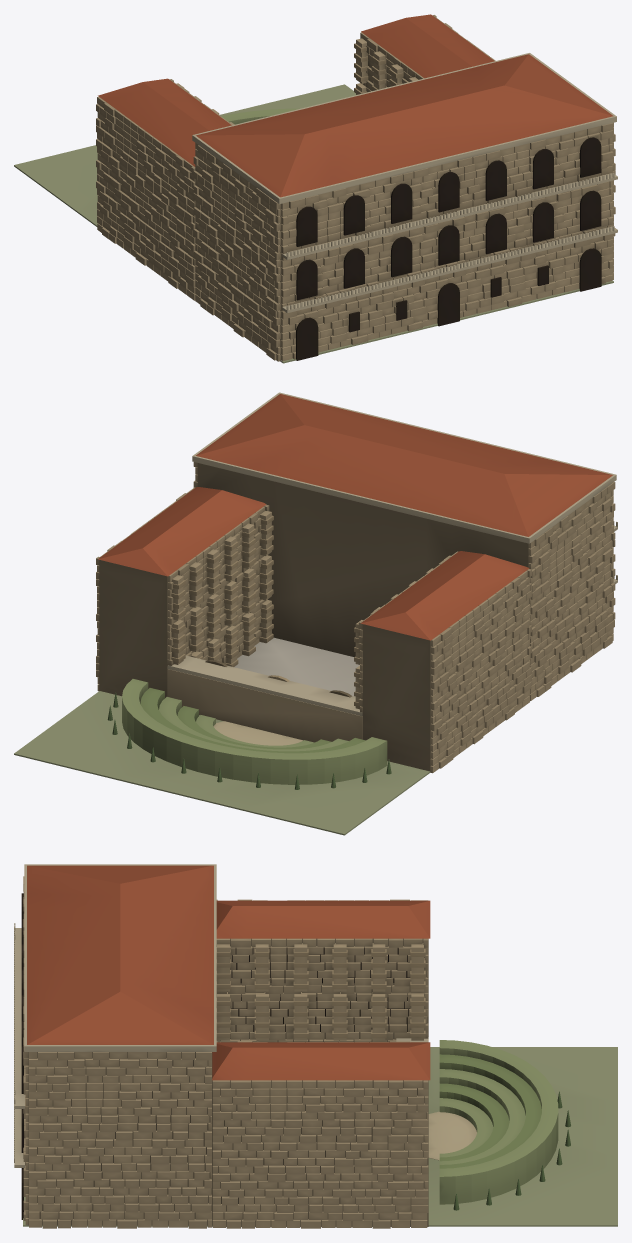
File: palazzo-pitti-1600.glb
The picture shows the model from 3 angles, top to bottom: view 1: azimuth 30°, elevation 25°; view 2: azimuth 150°, elevation 25°; view 3: azimuth 270°, elevation 25°; orthographic projection. The views are drawn at different scales.
Visible parts, largest first — view 1: p1_palace, p2_courtyard, p0_ground, p3_Boboli; view 2: p2_courtyard, p1_palace, p0_ground, p3_Boboli; view 3: p1_palace, p2_courtyard, p0_ground, p3_Boboli.
Boxes of the visible parts, x1,y1,x2,y2 form: p1_palace: [192, 53, 617, 361]; p2_courtyard: [96, 14, 495, 300]; p0_ground: [14, 84, 613, 363]; p3_Boboli: [221, 108, 299, 124]; p2_courtyard: [96, 487, 531, 773]; p1_palace: [192, 392, 617, 700]; p0_ground: [14, 691, 430, 835]; p3_Boboli: [107, 679, 391, 789]; p1_palace: [14, 864, 216, 1228]; p2_courtyard: [212, 899, 430, 1228]; p0_ground: [23, 1047, 617, 1226]; p3_Boboli: [428, 1040, 570, 1210].
Size of the model in its own units: 79.92 by 40.85 by 112.
